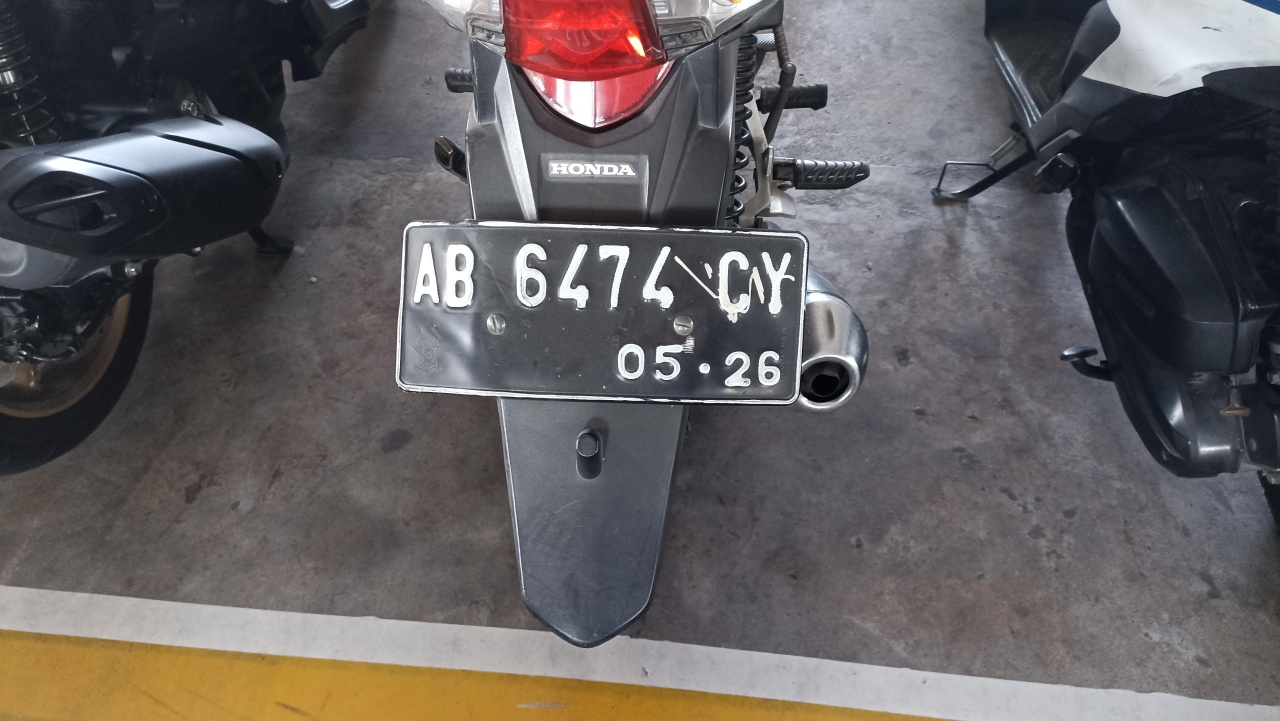plate: (396, 220, 803, 405)
